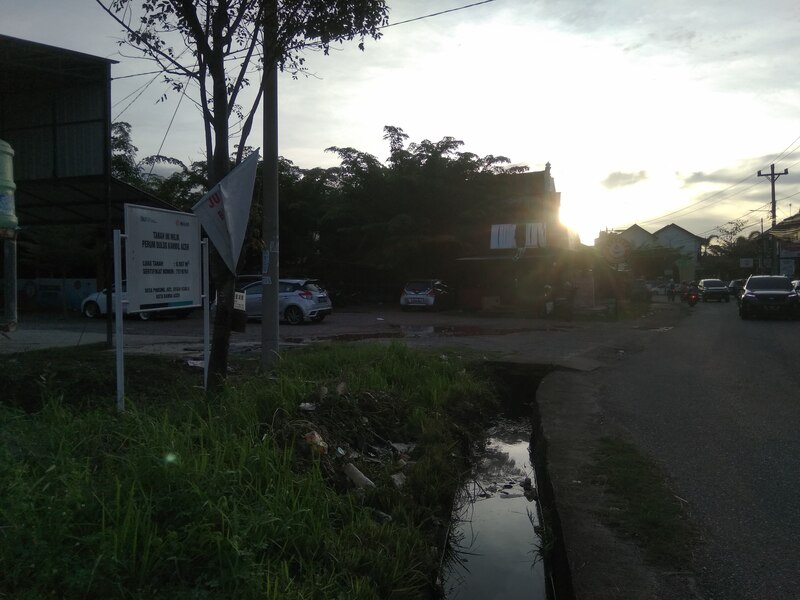car: (226, 276, 338, 325), (79, 278, 194, 324), (738, 272, 796, 328), (398, 275, 455, 316), (697, 276, 731, 306)
